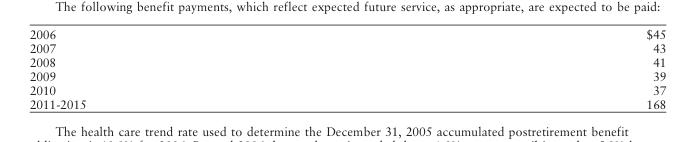table: (28, 28, 665, 111)
table column: (28, 28, 365, 111), (365, 28, 665, 111)
table row: (28, 28, 665, 42), (28, 55, 665, 69), (28, 69, 665, 83), (28, 83, 665, 97), (28, 97, 665, 111), (28, 42, 665, 55)
